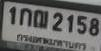letters: (33, 10, 48, 29), (19, 8, 32, 26), (76, 15, 88, 34), (52, 12, 63, 31), (89, 18, 99, 36), (9, 6, 16, 25), (67, 14, 73, 32)
province: (17, 34, 87, 50)
